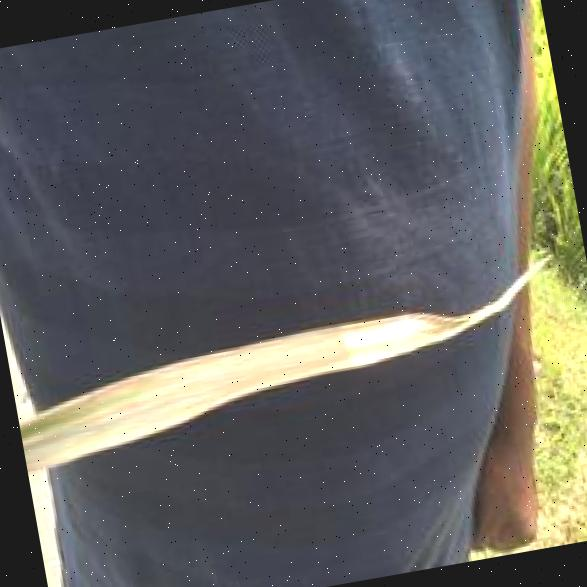Bacteria_Leaf_Blight: (20, 298, 524, 449)
